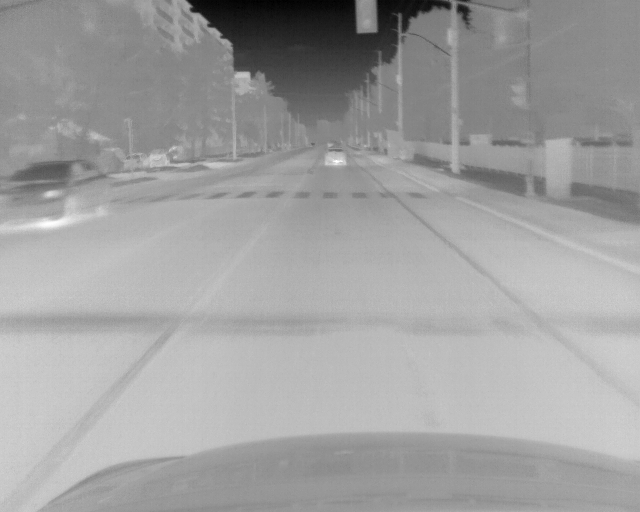car: (1, 157, 114, 225), (324, 147, 346, 168)
